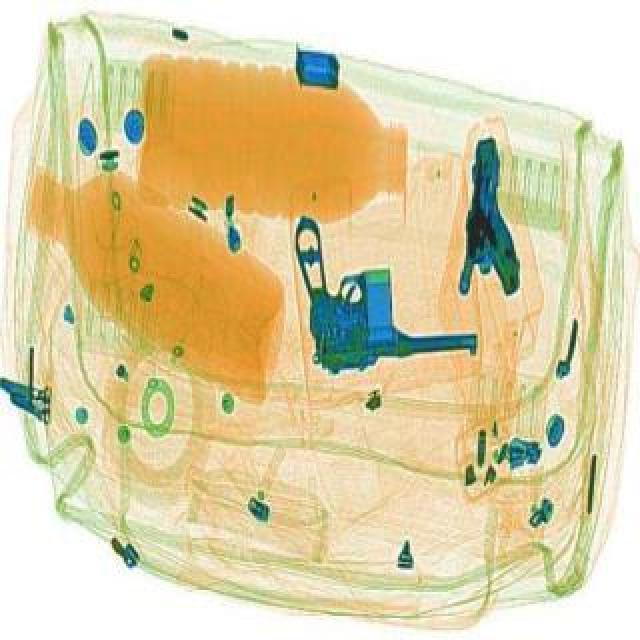gun: (284, 188, 480, 376), (460, 134, 538, 294)
